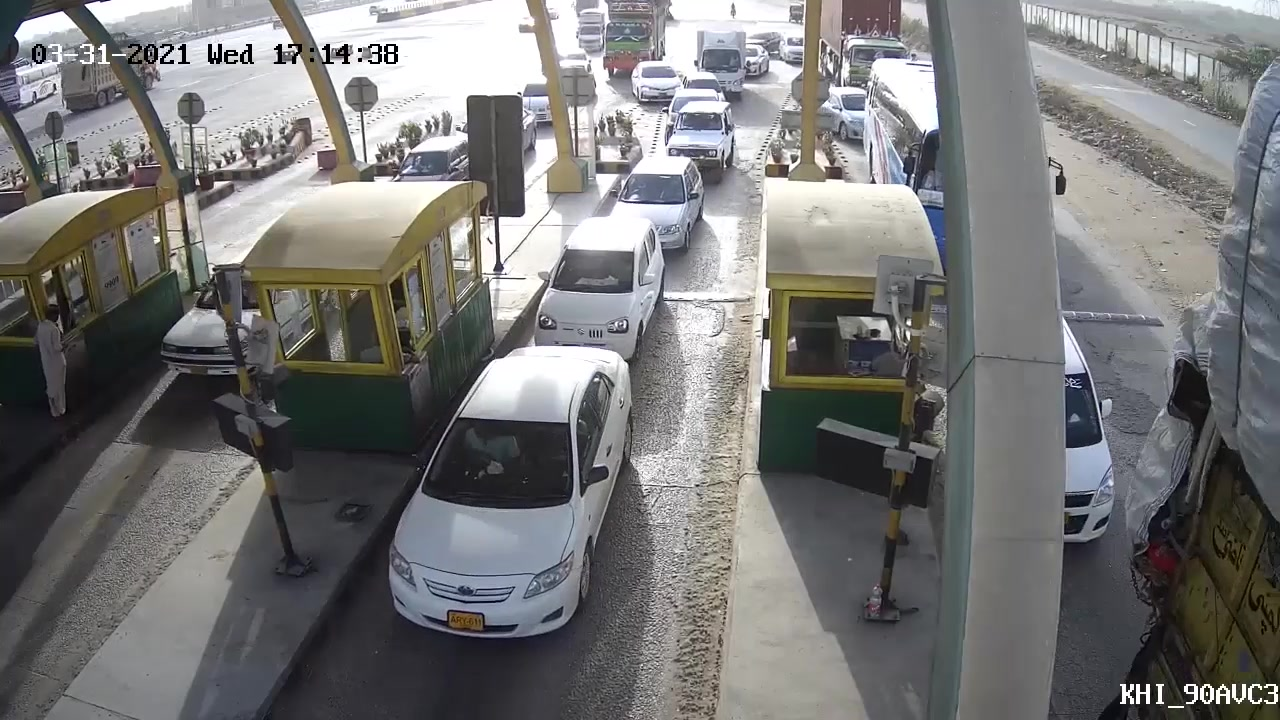F1: (383, 344, 637, 638), (527, 218, 670, 354)
